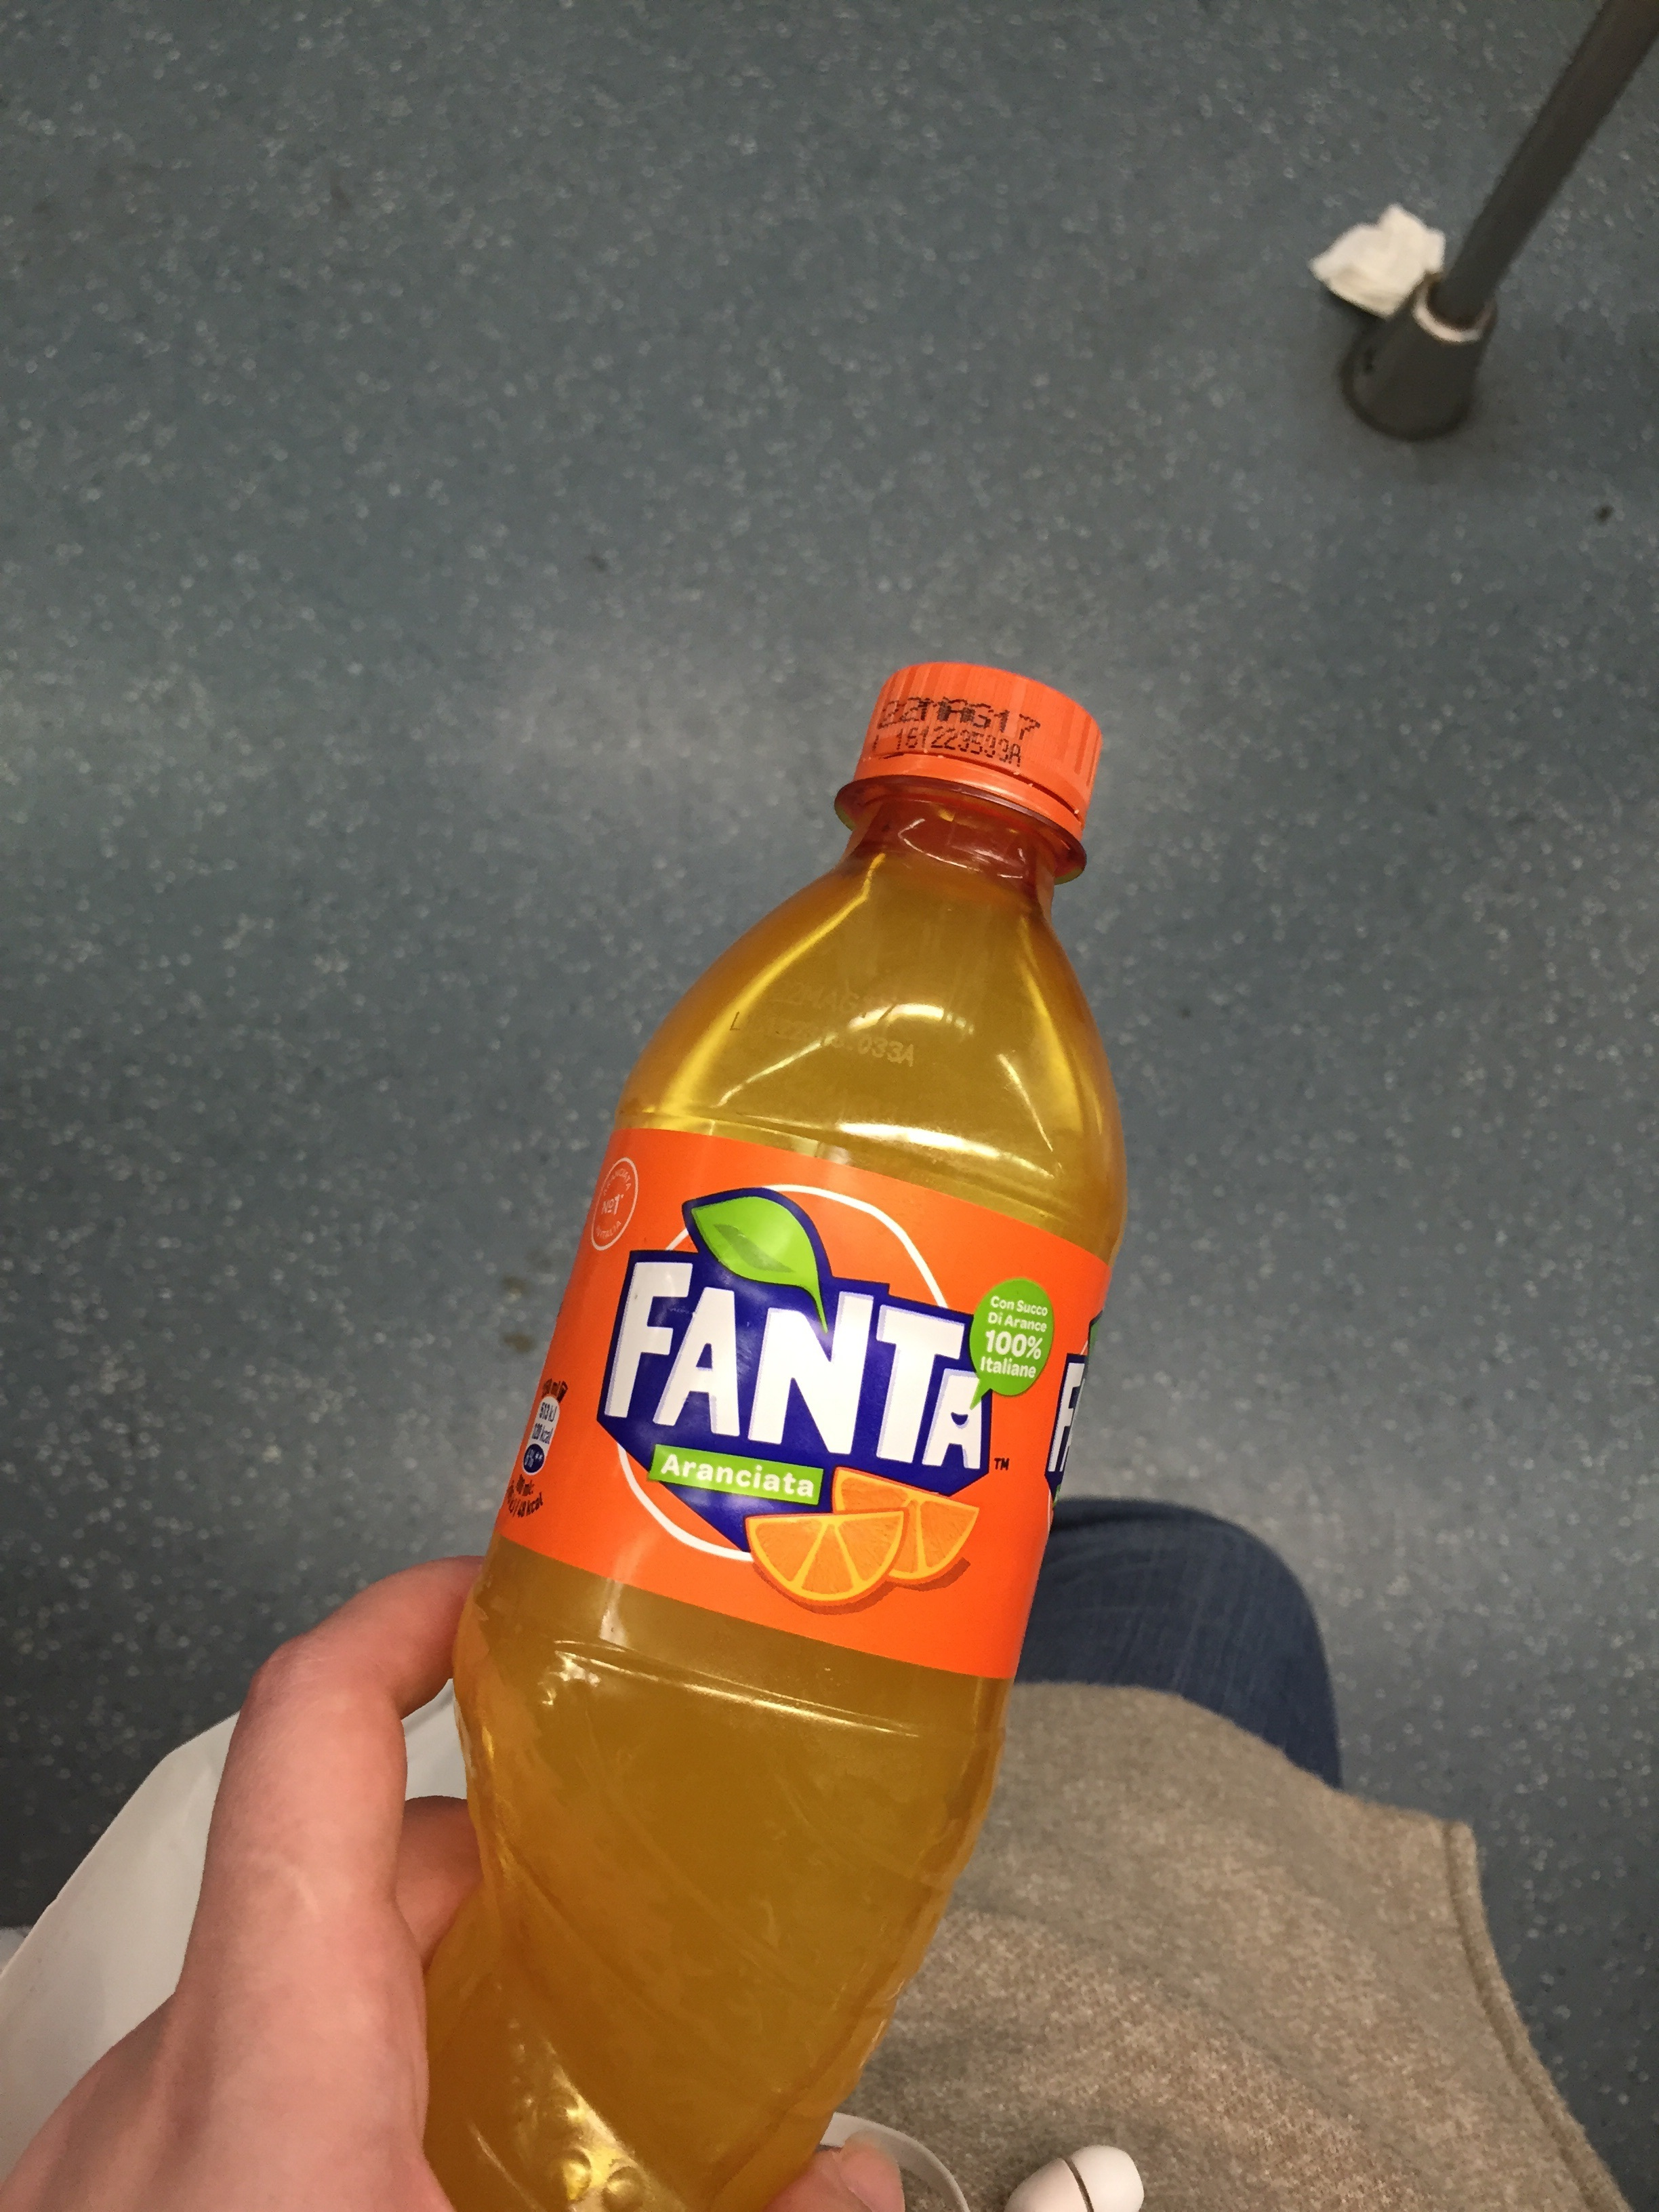fanta: (472, 726, 1094, 2163)
